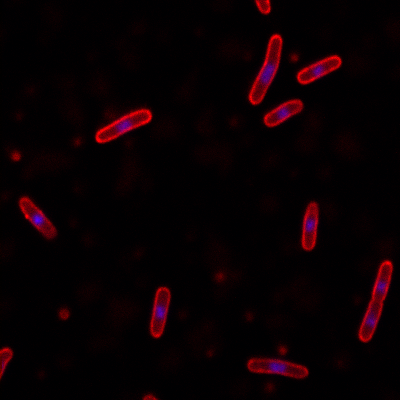Nalidixate: (357, 260, 393, 342), (248, 32, 284, 105), (94, 107, 153, 144), (296, 54, 343, 85), (247, 357, 310, 380), (262, 99, 305, 127), (148, 287, 171, 339)
Oblique: (19, 196, 57, 239), (301, 200, 319, 251)
Vesicle: (213, 270, 224, 283), (9, 150, 20, 162), (59, 309, 69, 321), (278, 345, 288, 356), (73, 137, 82, 147), (290, 53, 299, 62)
